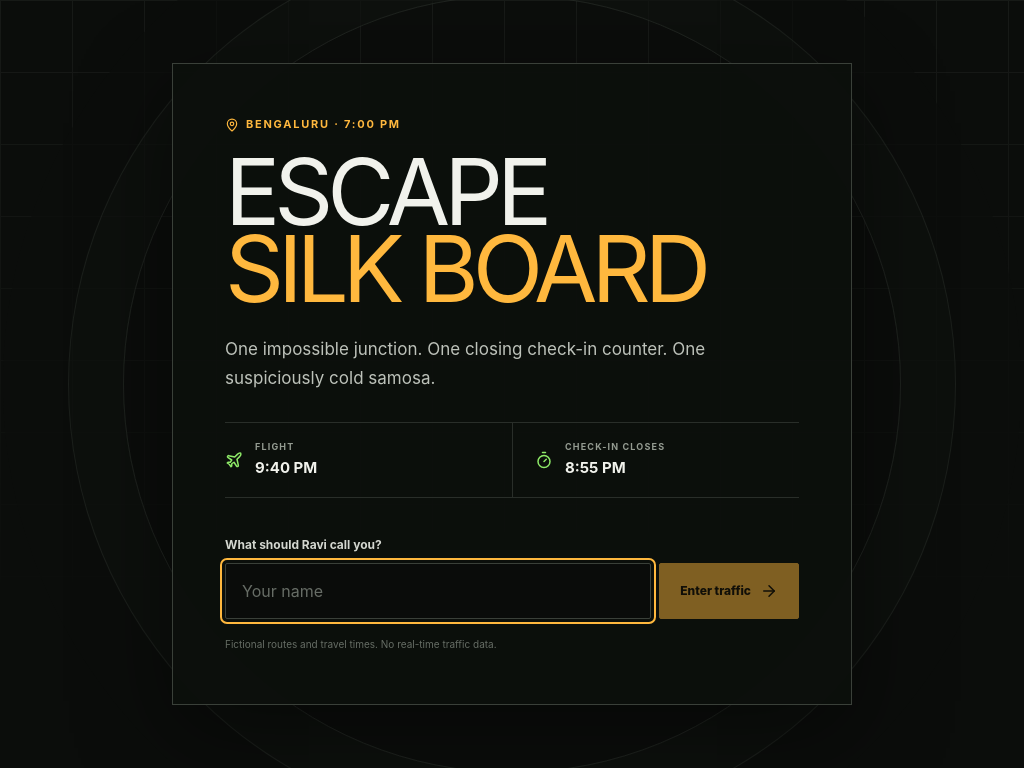
Test case: Escape Silk Board app › submits natural language and immediately renders authoritative changes
Expected: the heading is shown, [225,136,705,324]
Type "Maya" into the field labelled "What should Ravi call you?" at (438, 591), box [225,563,651,619]
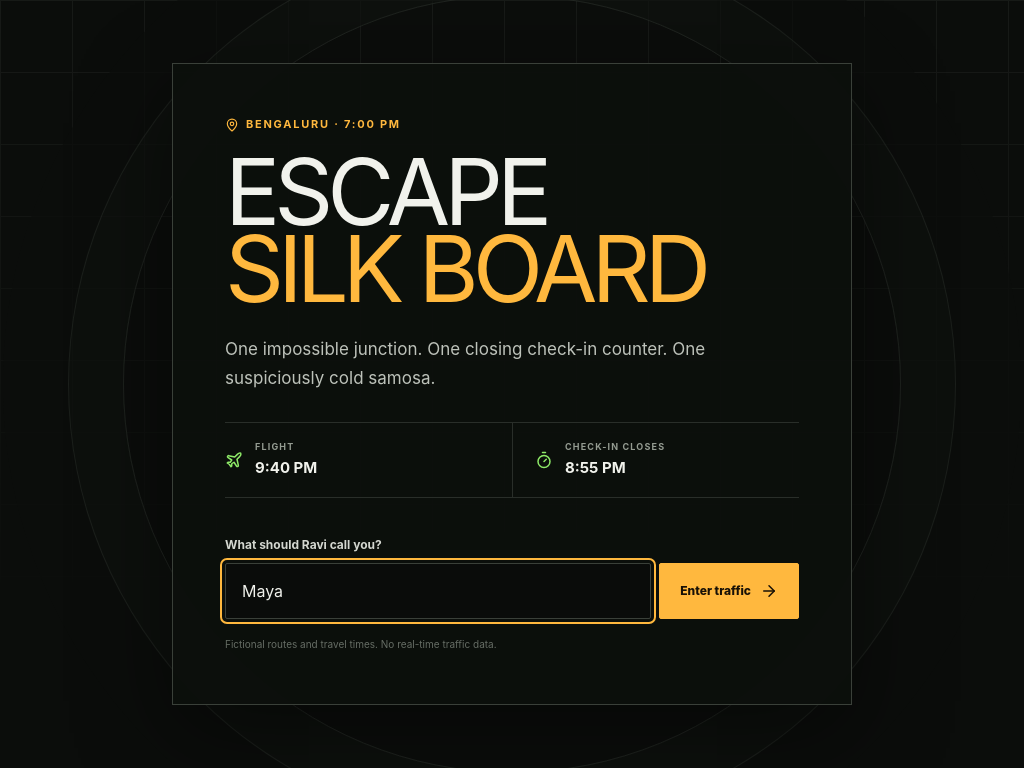
Click the button "Enter traffic" at (729, 591), box [659,563,799,619]
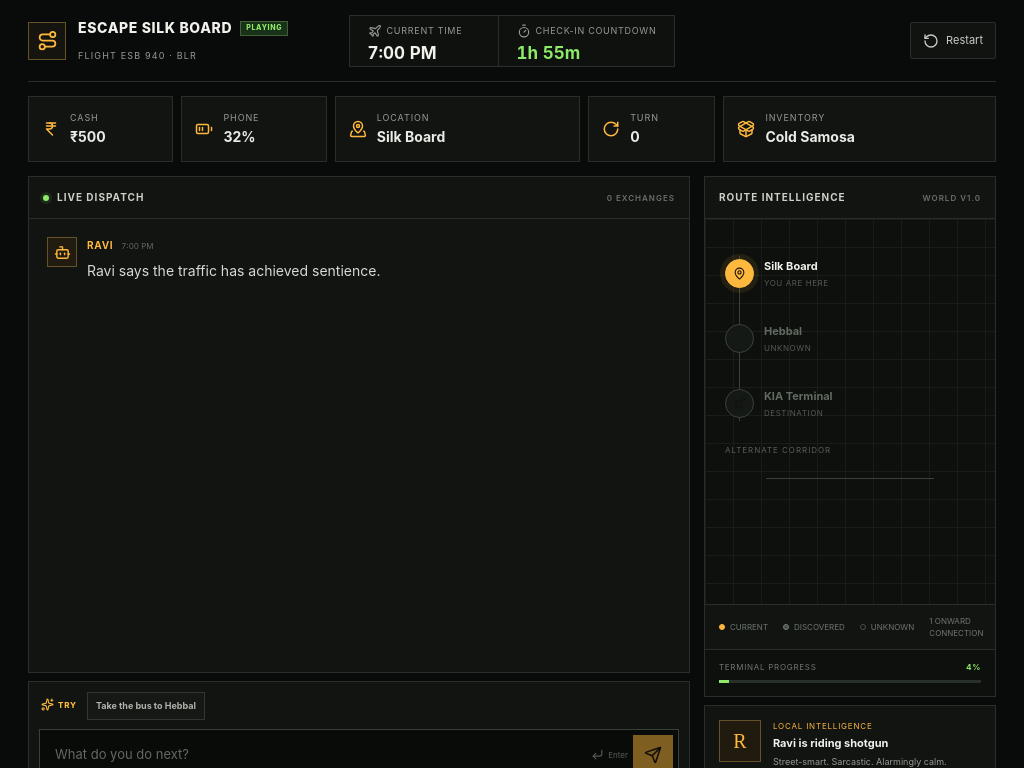
Now the text "₹500" is shown, box [70,126,106,147]
Type "Take the bus" into the field labelled "What do you do next?" at (316, 755), box [40,745,591,764]
(page scrolled)
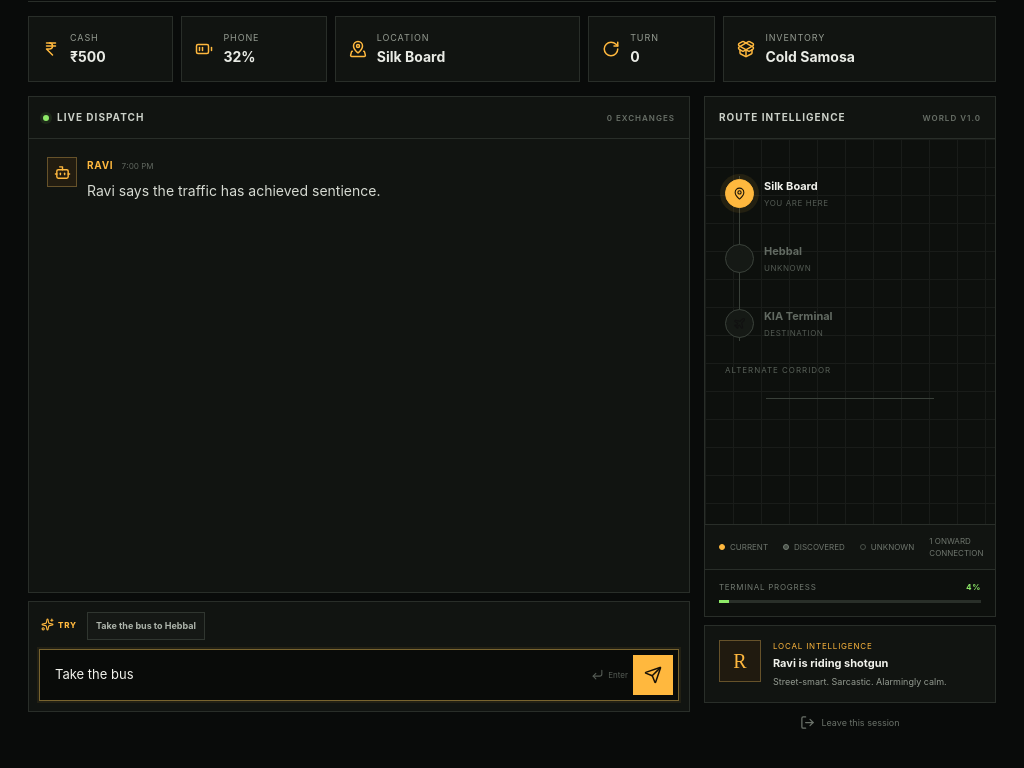
Click the button named "submit action" at (653, 674), box [633,654,673,694]
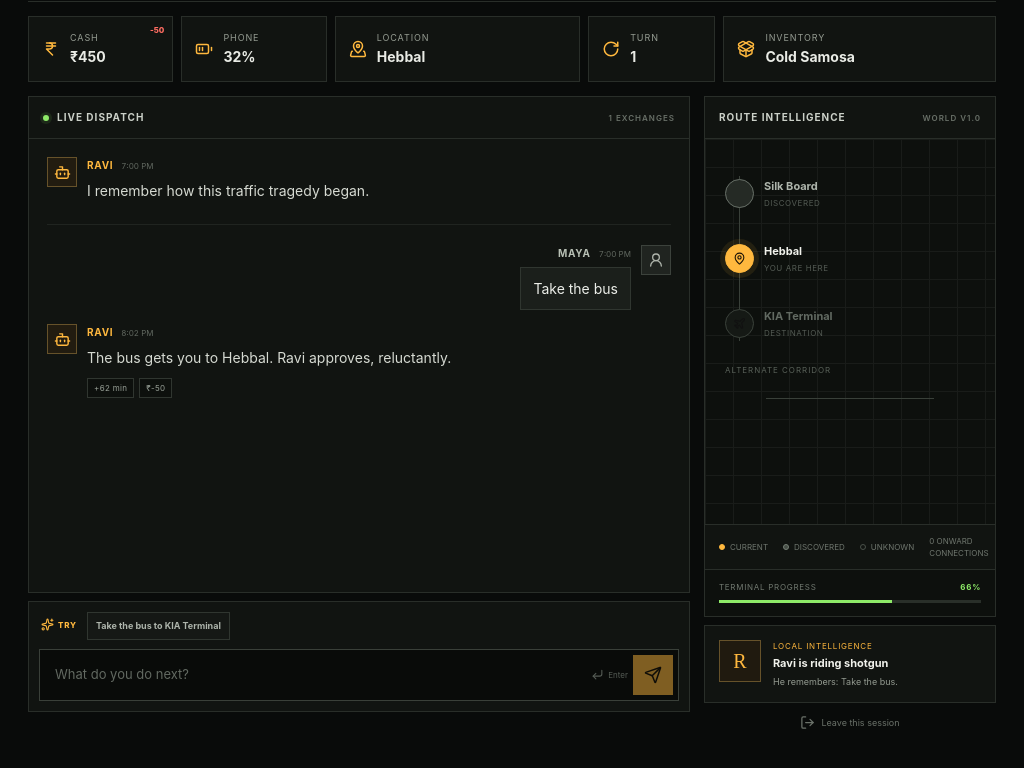
Now the text "Hebbal" below "Location" is shown, box [377,48,425,65]
Now the text "₹450" is shown, box [70,46,106,67]
Now the text "The bus gets you to Hebbal. Ravi approves, reluctantly." is shown, box [87,346,451,369]
